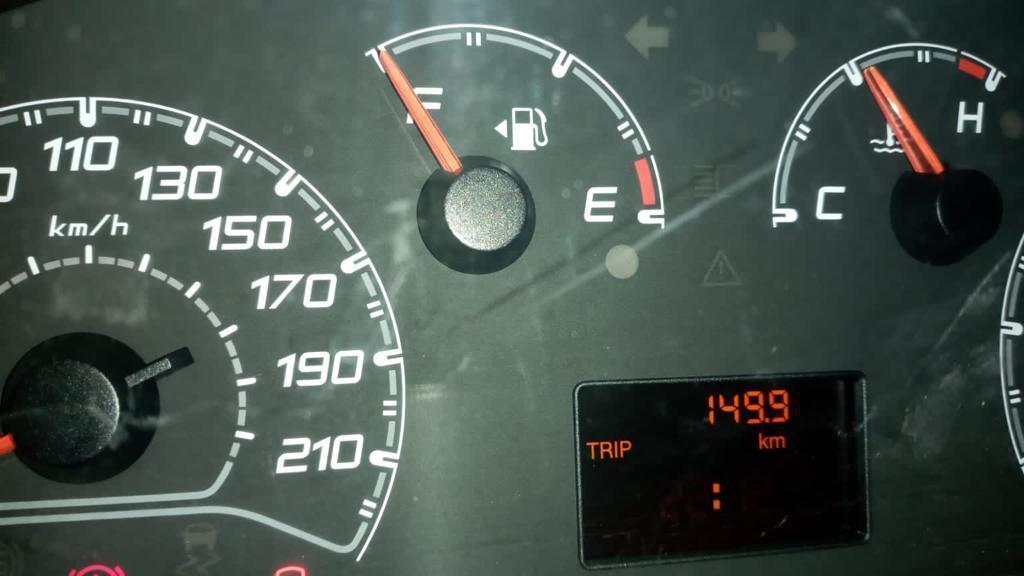,: (764, 416, 770, 425)
1: (705, 389, 716, 429)
4: (717, 388, 740, 428)
9: (768, 388, 795, 423), (743, 388, 765, 424)
X: (707, 476, 723, 516), (585, 437, 599, 464), (620, 437, 635, 459), (769, 434, 786, 451), (600, 439, 613, 461), (757, 431, 769, 450), (614, 437, 618, 459)
odometer: (567, 365, 882, 566)
